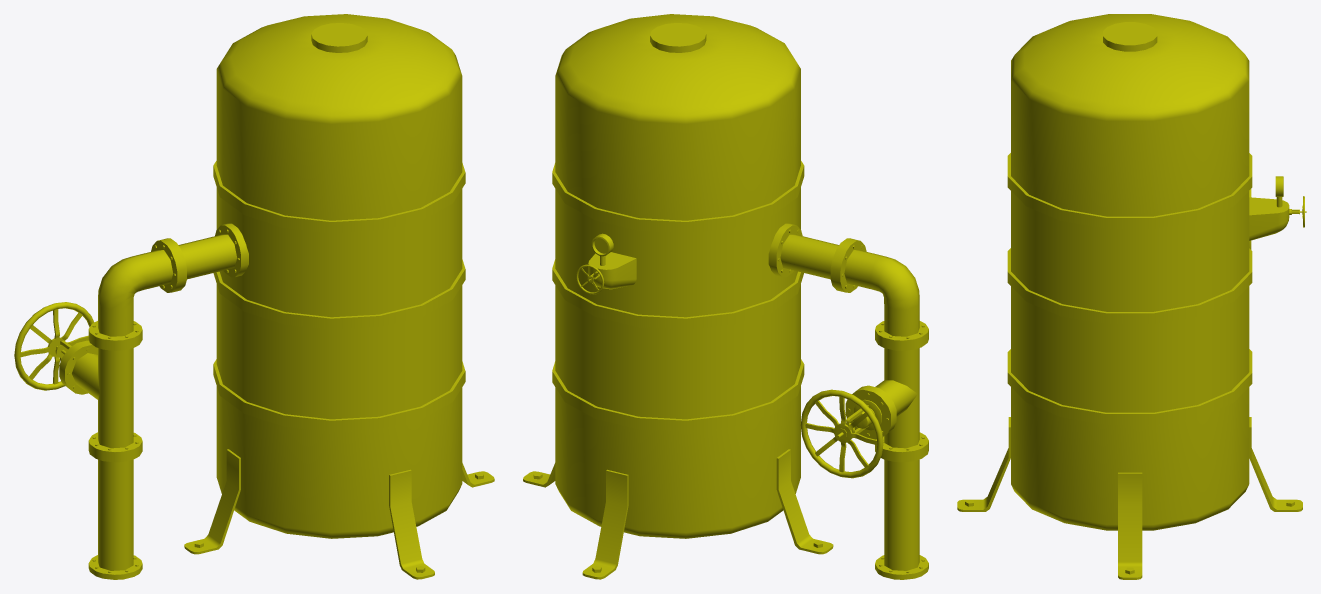
The model's file is Boiler 2.fbx.
3 renders of one model, left to right at view 1: azimuth 30°, elevation 25°; view 2: azimuth 150°, elevation 25°; view 3: azimuth 270°, elevation 25°, orthographic.
Parts seen in each view (by area): view 1: engineSet2; view 2: engineSet2; view 3: engineSet2.
Boxes of the visible parts, x1,y1,x2,y2 form: engineSet2: [14, 14, 494, 579]; engineSet2: [523, 14, 928, 579]; engineSet2: [957, 14, 1306, 579].
Bounding box in the file's own units: 195 × 215 × 144.
